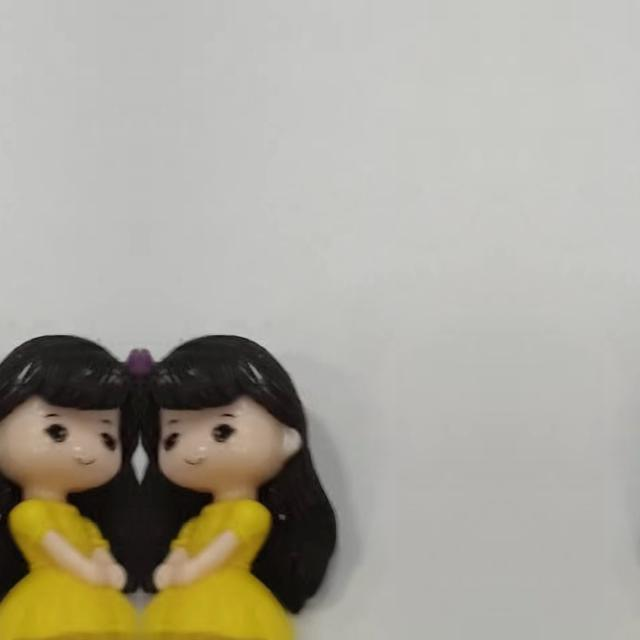woman head: (143, 321, 340, 513), (0, 321, 137, 513)
